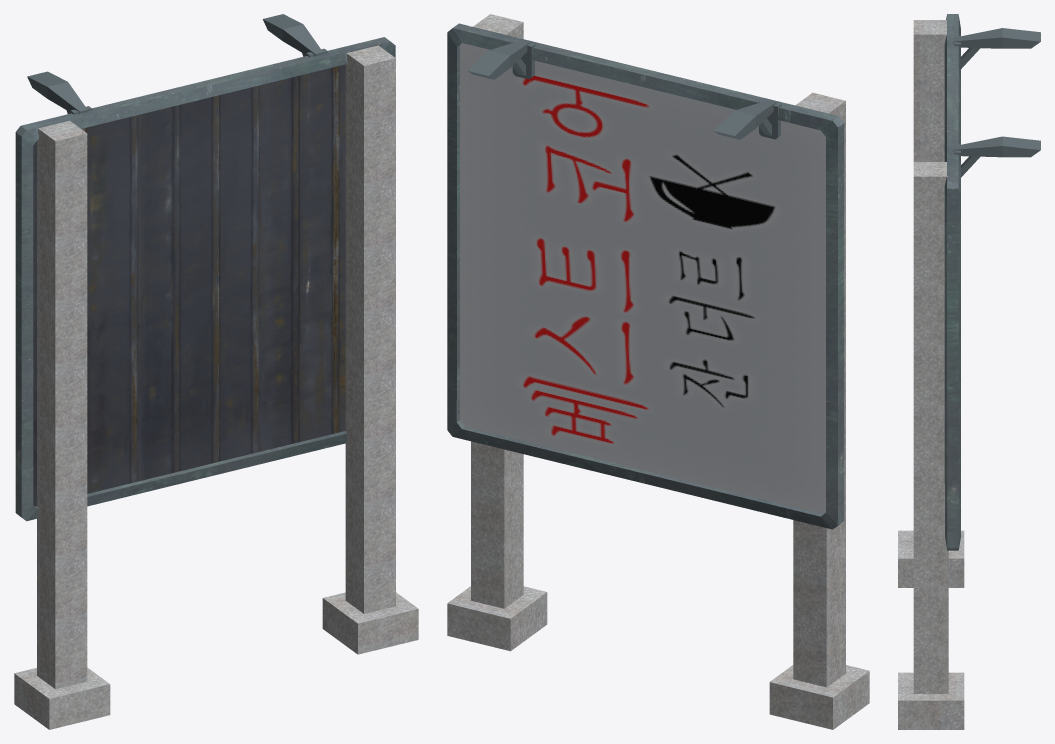
The model's file is SIN0110001.fbx.
3 renders of one model, left to right at view 1: azimuth 30°, elevation 25°; view 2: azimuth 150°, elevation 25°; view 3: azimuth 270°, elevation 25°, orthographic. The views are drawn at different scales.
Parts seen in each view (by area): view 1: smSIN0110001; view 2: smSIN0110001; view 3: smSIN0110001.
Part boxes in pixels (<box>): smSIN0110001: <box>14,14,418,729</box>; smSIN0110001: <box>447,14,869,729</box>; smSIN0110001: <box>898,14,1040,729</box>.
Size of the model in its own units: 316 by 476 by 111.
1 material, 1 textured.
